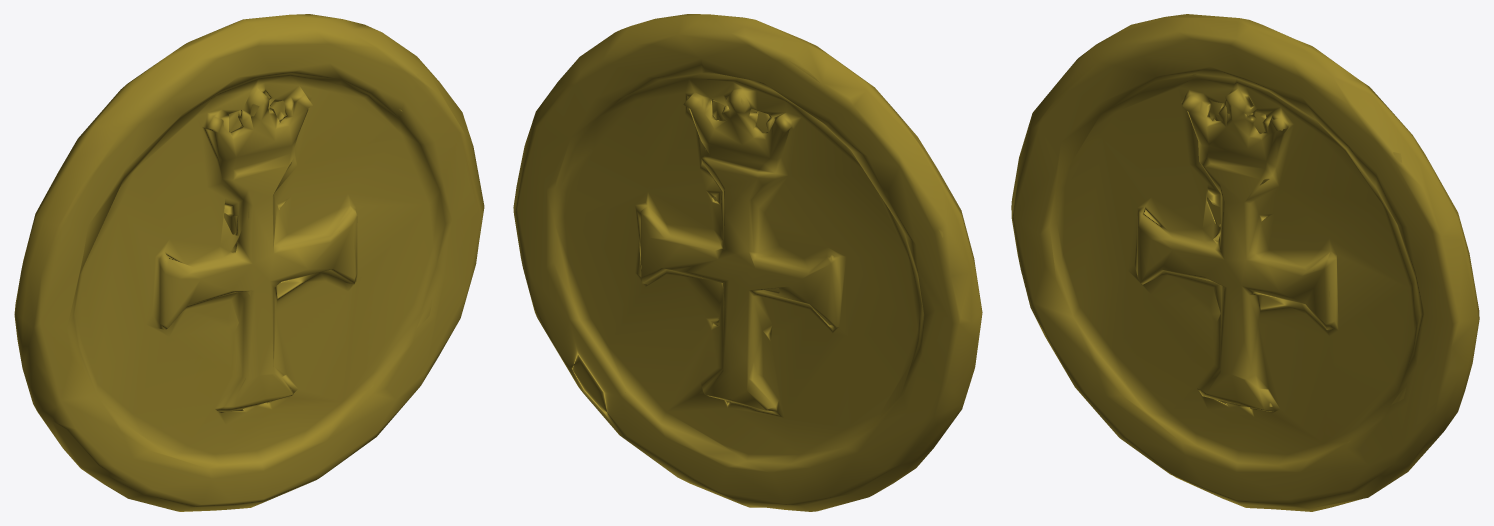
File: gen3d-gold-doubloon-lod0.glb
3 renders of one model, left to right at view 1: azimuth 30°, elevation 25°; view 2: azimuth 150°, elevation 25°; view 3: azimuth 330°, elevation 25°, orthographic.
Visible parts, largest first — view 1: part_0; view 2: part_0; view 3: part_0.
Part boxes in pixels (<box>): part_0: <box>14,14,484,511</box>; part_0: <box>513,14,982,511</box>; part_0: <box>1011,14,1479,511</box>.
Size of the model in its own units: 0.9999 by 0.9993 by 0.1049.
